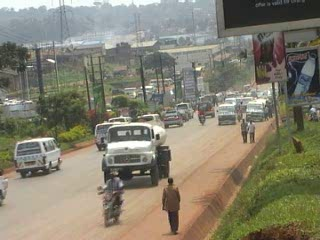Car: (161, 112, 183, 130), (194, 99, 213, 119), (172, 108, 188, 121)
Motorcycle: (97, 171, 126, 226), (196, 107, 206, 124)
